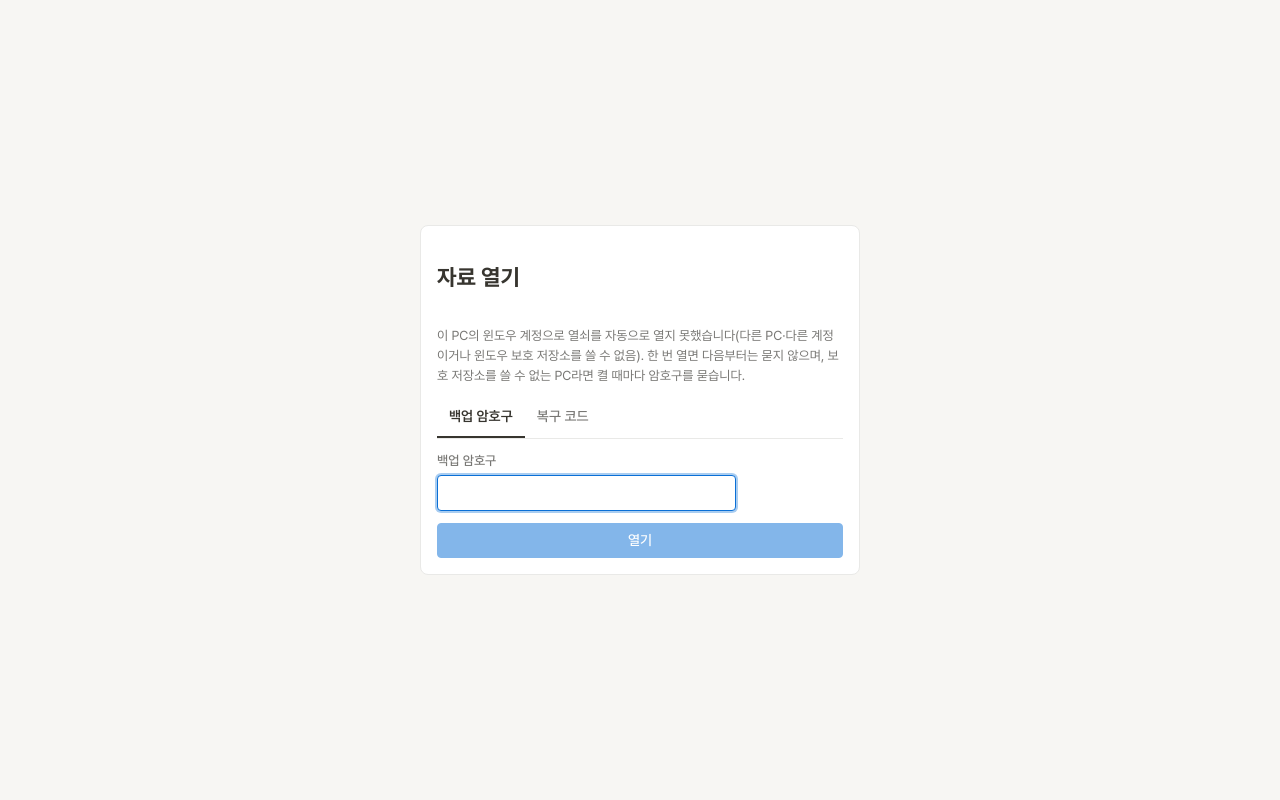
Test case: needs-pass: 암호구가 맞아도 DB가 없으면 → missing, store 없음, DB 안 만듦
Type "시험용암호구2026" into the password field labelled "백업 암호구". click: (586, 493)
box: [437,475,736,511]
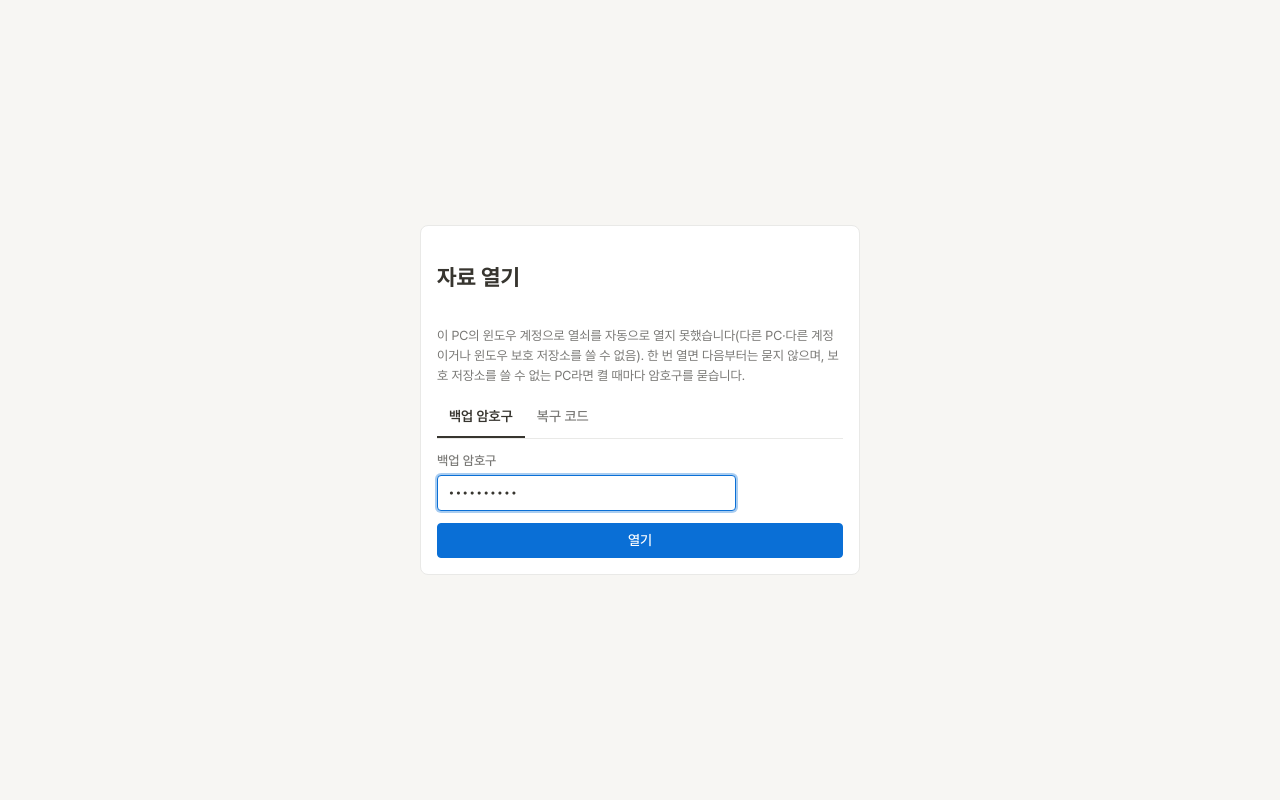
Click the button "열기". click: (640, 541)
box: [437,523,843,558]
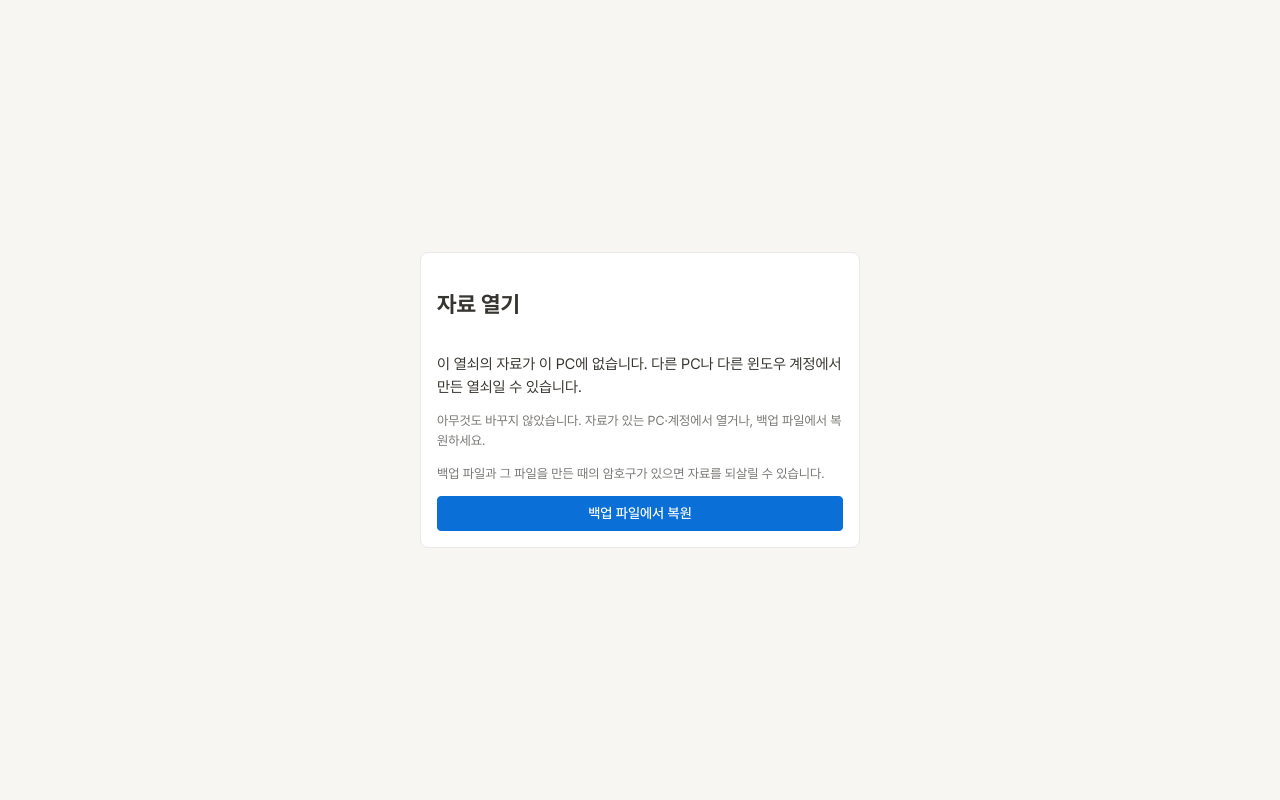
Now the text "이 열쇠의 자료가 이 PC에 없습니다. 다른 PC나 다른 윈도우 계정에서 만든 열쇠일 수 있습니다." is shown, box [437,353,843,399]
